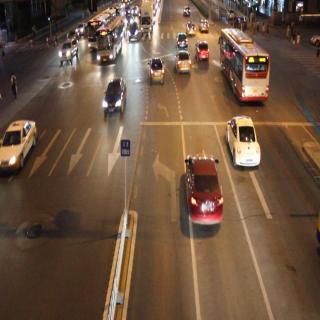BigCar: (218, 23, 270, 107), (97, 17, 123, 64), (139, 0, 156, 37)
Car: (185, 150, 225, 232), (1, 118, 37, 176), (226, 117, 262, 168), (100, 75, 128, 124), (146, 56, 166, 86), (59, 38, 79, 68), (175, 50, 192, 76), (195, 38, 210, 65), (128, 20, 139, 46), (176, 28, 187, 50), (187, 17, 197, 37), (200, 15, 209, 34)
